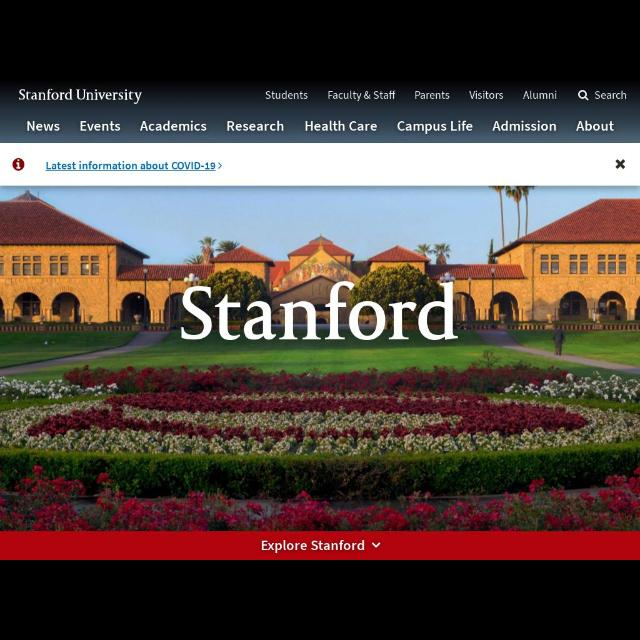backgroundimage: (0, 186, 638, 532)
icon: (12, 157, 24, 171), (576, 90, 590, 102), (614, 158, 626, 170), (372, 542, 381, 548)
image: (180, 281, 462, 341), (17, 89, 144, 105)
link: (46, 161, 222, 173)
panel: (1, 144, 640, 186)
text: (261, 540, 365, 556), (396, 120, 474, 134), (304, 120, 378, 132), (140, 120, 208, 132), (492, 120, 558, 132), (326, 90, 396, 100), (227, 120, 285, 132), (264, 90, 308, 102), (78, 120, 122, 132), (576, 120, 616, 132), (26, 120, 60, 132), (468, 90, 504, 100), (522, 90, 558, 100), (594, 90, 628, 100), (415, 92, 451, 100)
toolbar: (1, 81, 640, 143)
